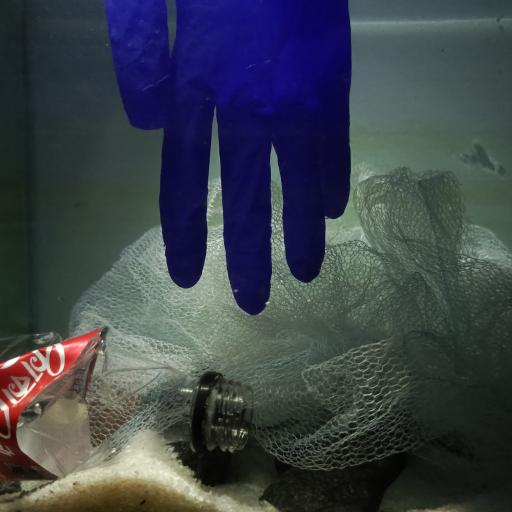glove: (103, 0, 350, 314)
net: (74, 160, 512, 470)
plastic_bottle: (0, 323, 254, 478)
